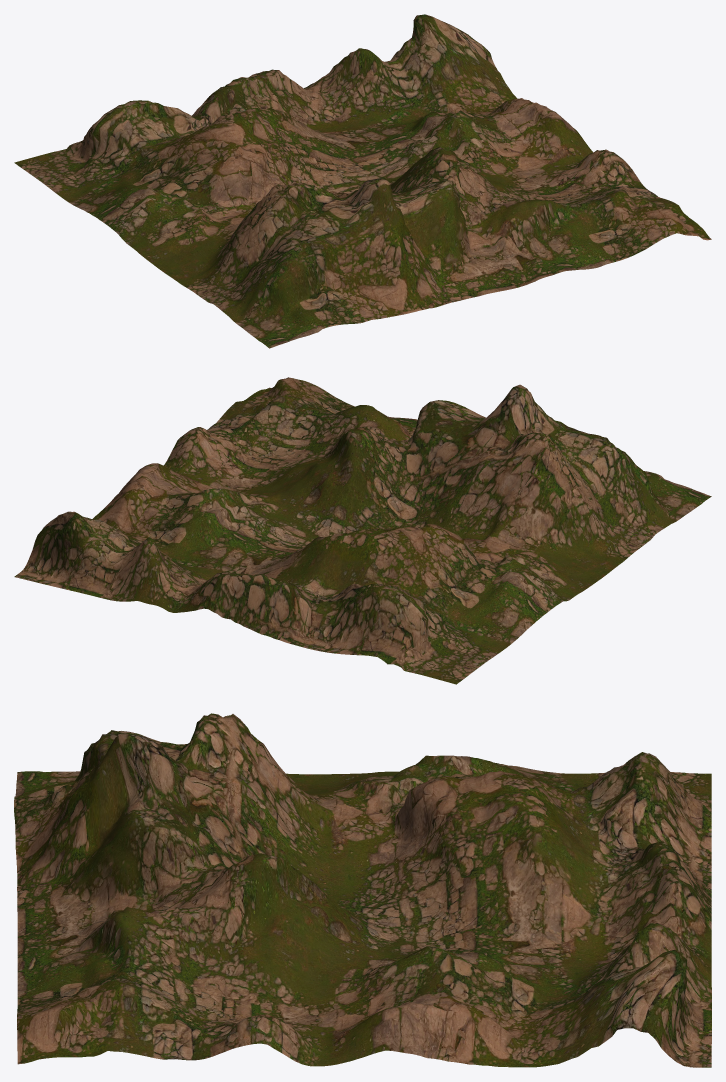
File: terrain-unique.glb
3 views of the same model, one above another, from view 1: azimuth 30°, elevation 25°; view 2: azimuth 150°, elevation 25°; view 3: azimuth 270°, elevation 25° (orthographic). The views are drawn at different scales.
Visible parts, largest first — view 1: pPlane1; view 2: pPlane1; view 3: pPlane1.
Part boxes in pixels (x1,y1,x2,y2): pPlane1: [14, 14, 711, 348]; pPlane1: [14, 377, 711, 684]; pPlane1: [14, 713, 711, 1067].
Bounding box in the file's own units: 186 × 41.37 × 186.
Materials: 1 (1 with a texture image).
